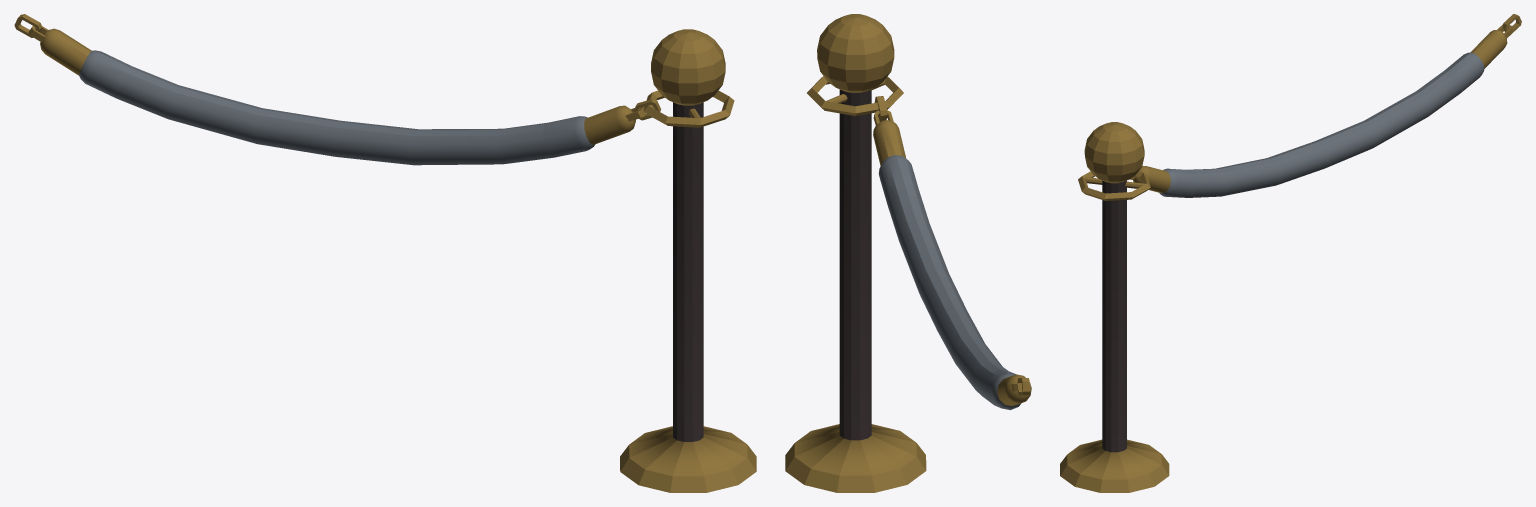
The model's file is TEMP_Velvet_Rope.fbx.
3 renders of one model, left to right at view 1: azimuth 30°, elevation 25°; view 2: azimuth 150°, elevation 25°; view 3: azimuth 270°, elevation 25°, orthographic. The views are drawn at different scales.
Parts seen in each view (by area): view 1: Velvet_Rope; view 2: Velvet_Rope; view 3: Velvet_Rope.
Part boxes in pixels (bbox=[...]): Velvet_Rope: bbox=[14, 14, 756, 492]; Velvet_Rope: bbox=[785, 14, 1031, 492]; Velvet_Rope: bbox=[1060, 14, 1521, 492].
Bounding box in the file's own units: 6.63 × 5.69 × 6.9.
